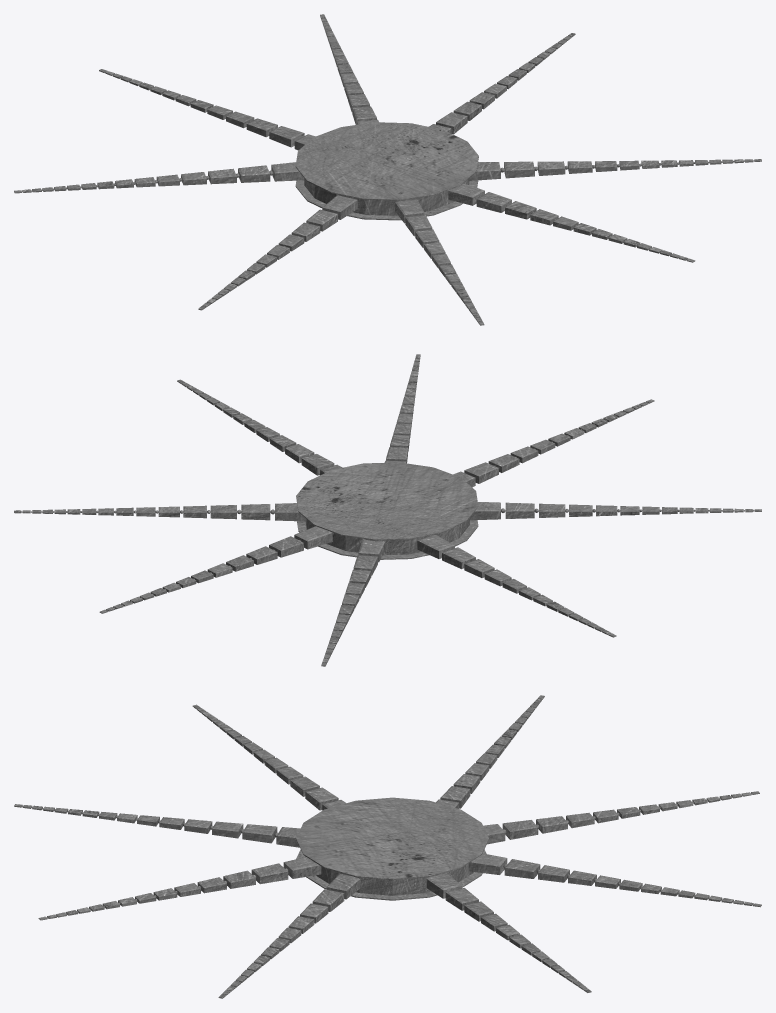
File: Poulpicoptere2-Pales.obj
3 views of the same model, one above another, from view 1: azimuth 30°, elevation 25°; view 2: azimuth 150°, elevation 25°; view 3: azimuth 270°, elevation 25° (orthographic). The views are drawn at different scales.
Visible parts, largest first — view 1: Cylinder.001_Cylinder.003; view 2: Cylinder.001_Cylinder.003; view 3: Cylinder.001_Cylinder.003.
Boxes of the visible parts, bbox=[...] form: Cylinder.001_Cylinder.003: bbox=[14, 14, 761, 325]; Cylinder.001_Cylinder.003: bbox=[14, 354, 761, 666]; Cylinder.001_Cylinder.003: bbox=[14, 695, 761, 998].
Bounding box in the file's own units: 17.73 × 0.5905 × 18.51.
